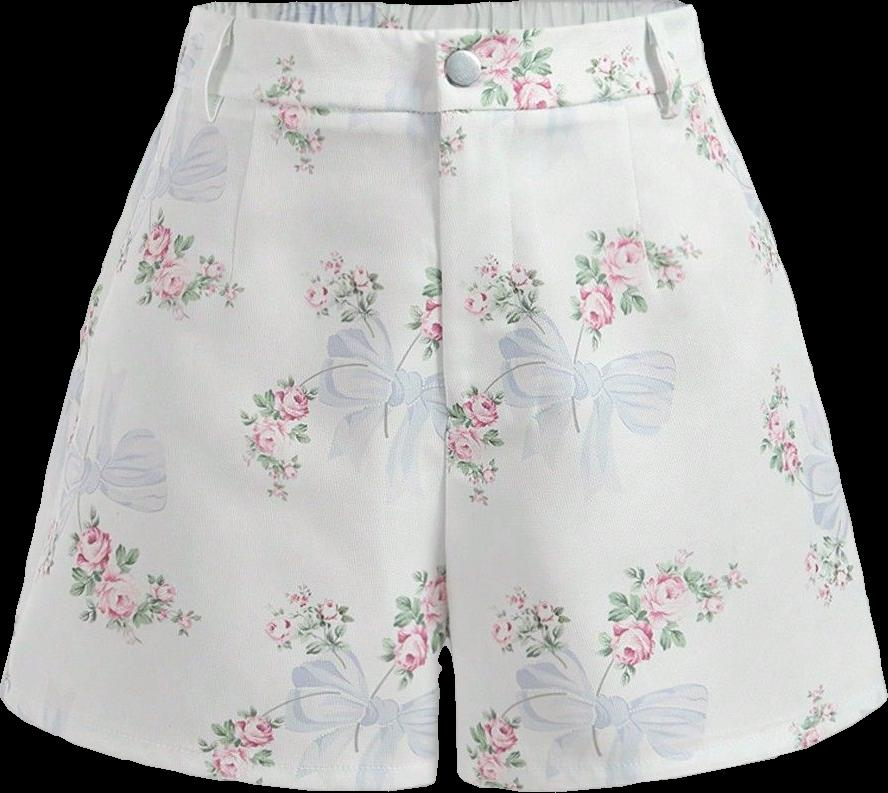Hemline: (0, 687, 438, 792), (454, 693, 887, 792)
Pantleg: (438, 0, 887, 791), (0, 2, 446, 790)
Waistline: (169, 73, 711, 118), (189, 0, 691, 34)
